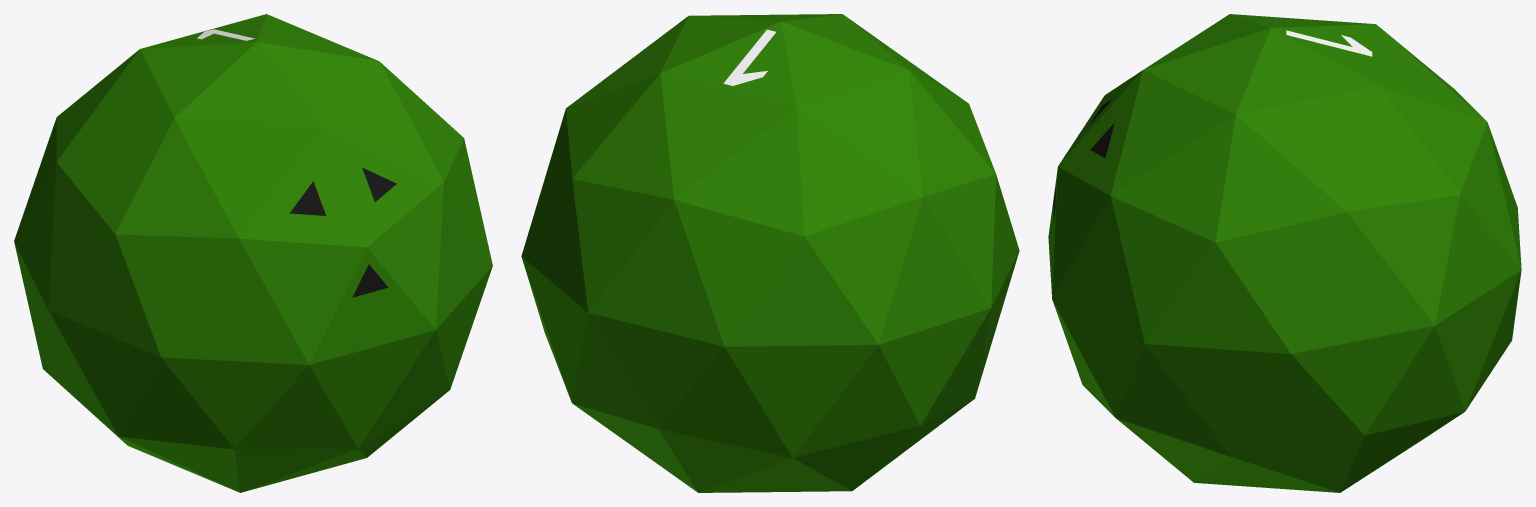
File: Bowling_Ball_1.fbx
3 views of the same model, side by side, from view 1: azimuth 30°, elevation 25°; view 2: azimuth 150°, elevation 25°; view 3: azimuth 270°, elevation 25° (orthographic). The views are drawn at different scales.
Parts seen in each view (by area): view 1: Bowling_Ball_1; view 2: Bowling_Ball_1; view 3: Bowling_Ball_1.
Part boxes in pixels (x1,y1,x2,y2): Bowling_Ball_1: (14, 14, 492, 492); Bowling_Ball_1: (521, 14, 1019, 492); Bowling_Ball_1: (1048, 14, 1521, 492).
Bounding box in the file's own units: 28.65 × 28.61 × 27.42.
